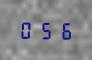five: (37, 19, 54, 40)
six: (55, 20, 72, 40)
zero: (18, 19, 35, 39)
